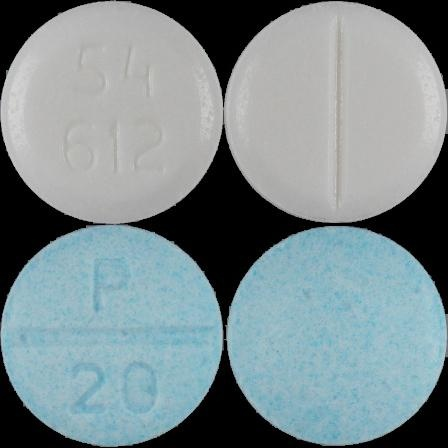54868-0258: (0, 0, 224, 224)
